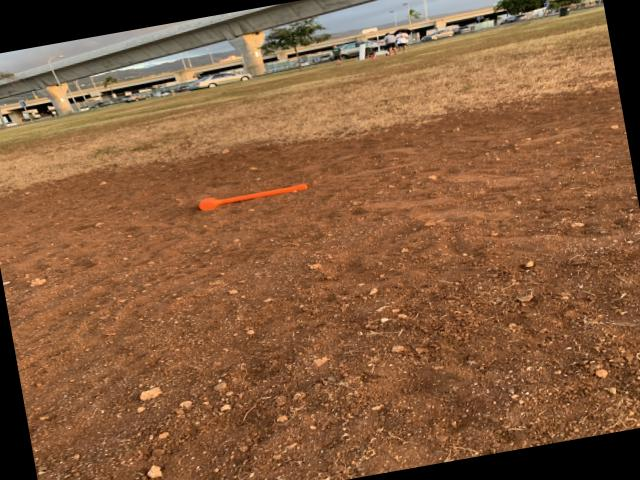hammer: (196, 178, 310, 212)
